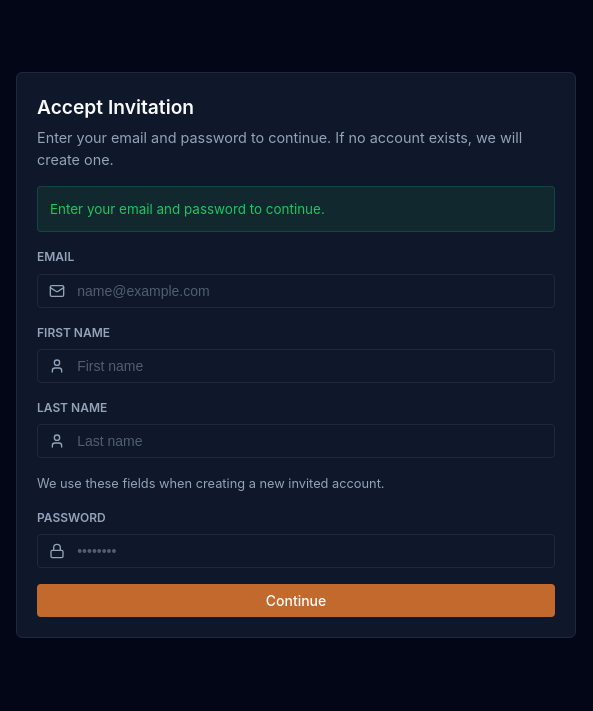
AcceptInvitation › clears code field and shows info after successful resend
In the field labelled "Email": (296, 291) [37,274,555,308], type "invitee@example.com"
In the field labelled "First Name": (296, 366) [37,349,555,383], type "Invitee"
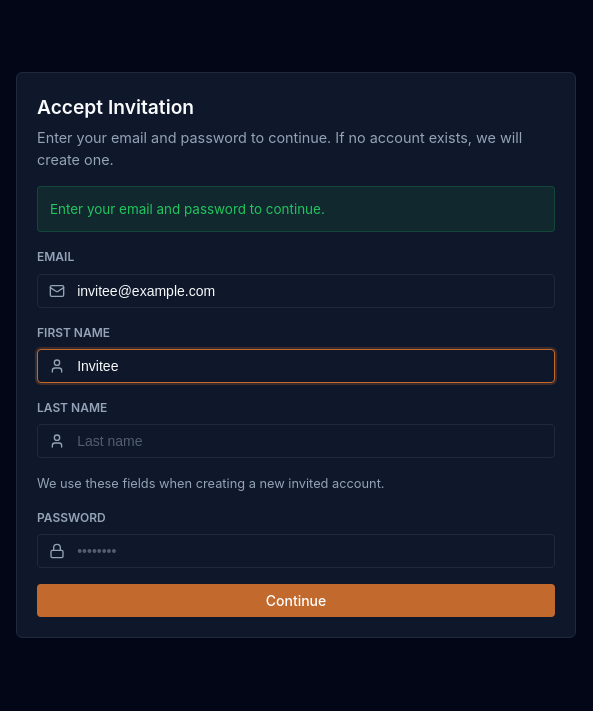
In the field labelled "Last Name": (296, 441) [37,424,555,458], type "Test"
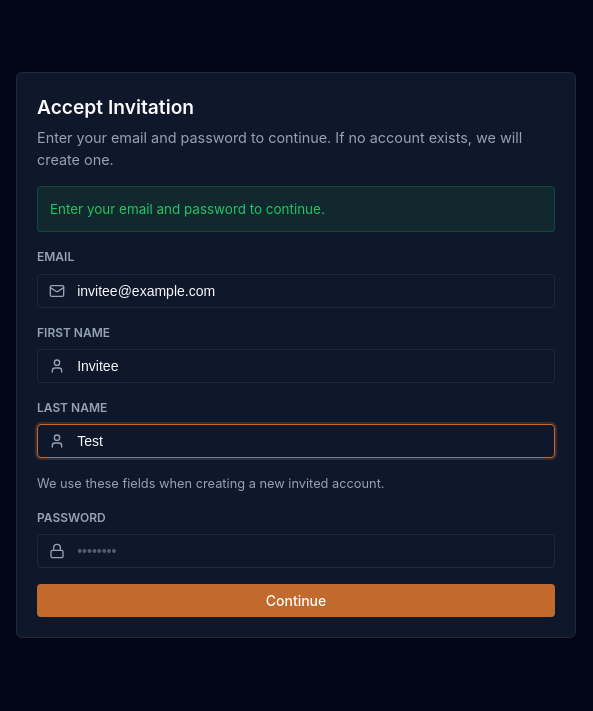
In the password field labelled "Password": (296, 551) [37,534,555,568], type "TestPass123!"
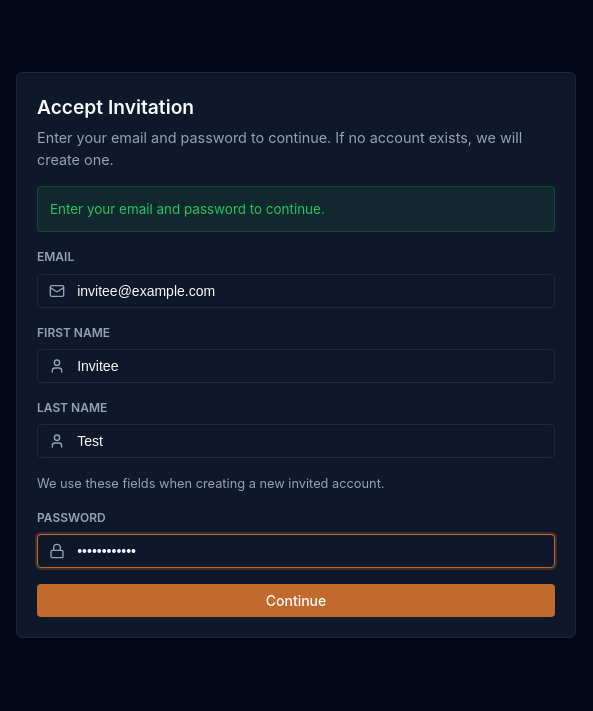
Click the button "Continue": click(296, 601) [37,584,555,617]
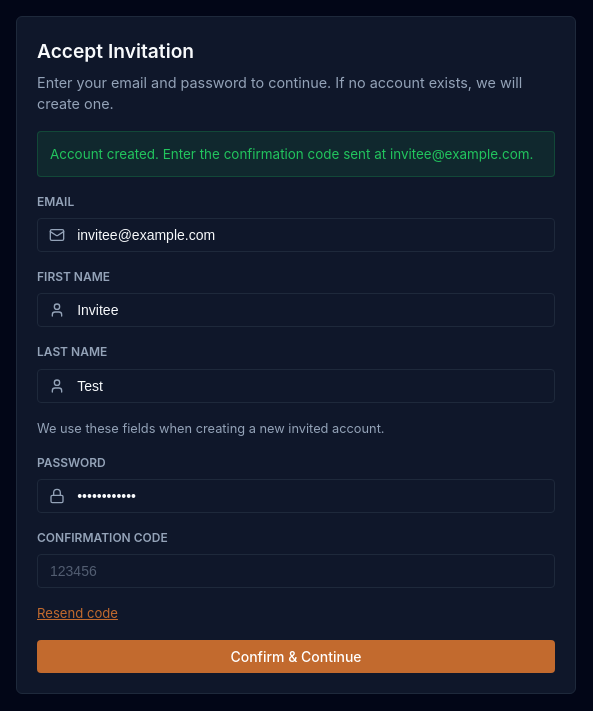
In the field labelled "Confirmation Code": (296, 571) [37,554,555,588], type "111111"
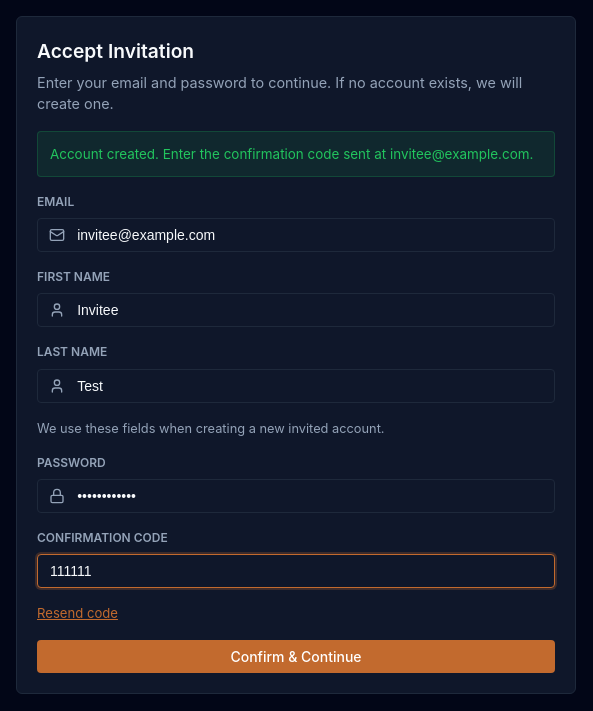
Click the button "Resend code": click(77, 613) [37,605,118,621]
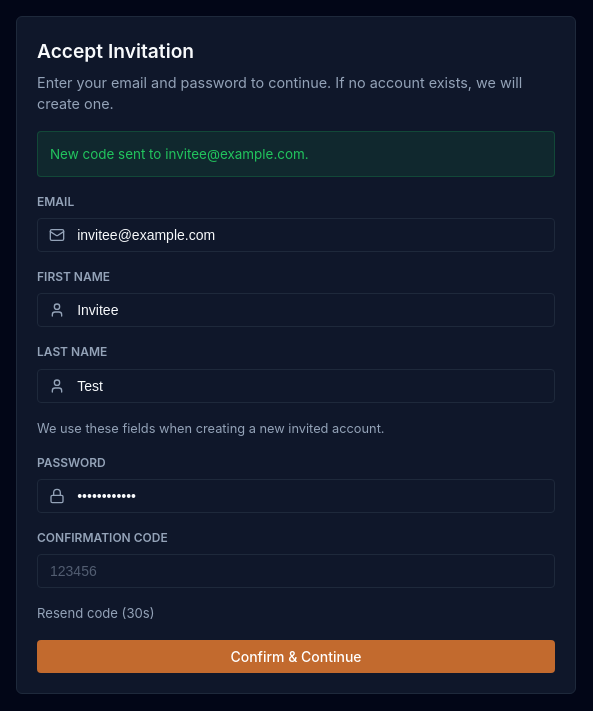
Expected: the field labelled "Confirmation Code" is empty, [37,554,555,588]
Expected: the text "New code sent to invitee@example.com." is shown, [37,131,555,177]
